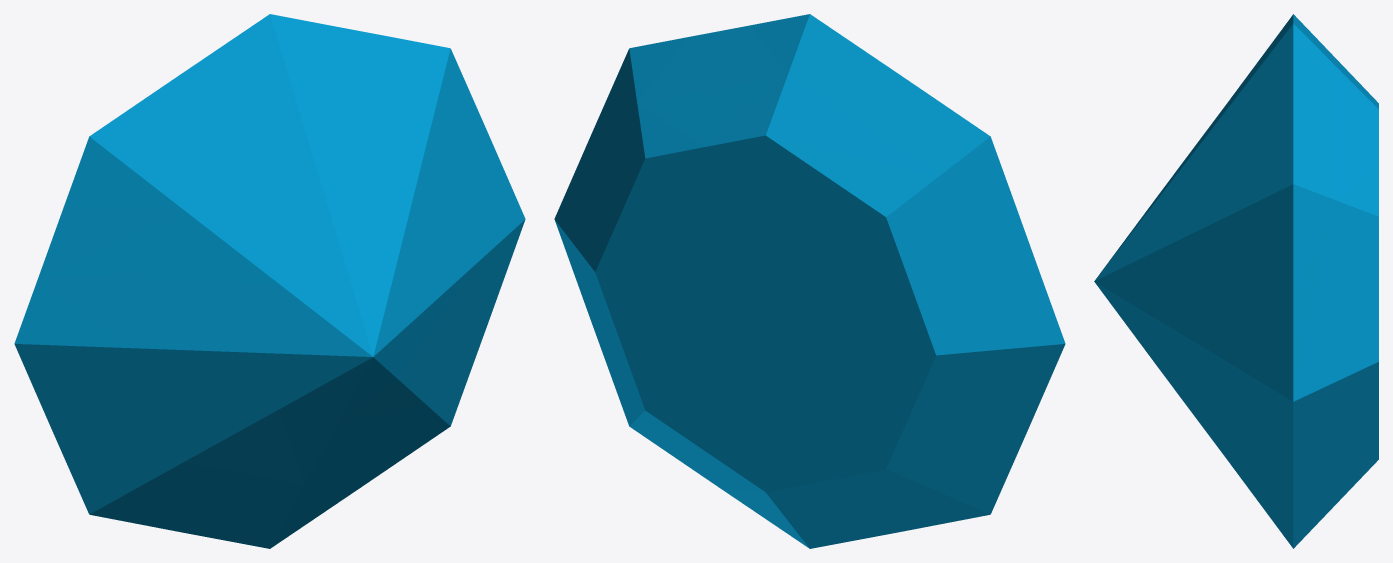
Rendered from diamond.obj.
3 renders of one model, left to right at view 1: azimuth 30°, elevation 25°; view 2: azimuth 150°, elevation 25°; view 3: azimuth 270°, elevation 25°, orthographic. The views are drawn at different scales.
Parts seen in each view (by area): view 1: obj_0; view 2: obj_0; view 3: obj_0.
Boxes of the visible parts, x1,y1,x2,y2 form: obj_0: (14, 14, 525, 548); obj_0: (554, 14, 1065, 548); obj_0: (1094, 14, 1378, 548).
Size of the model in its own units: 2 by 2 by 1.
